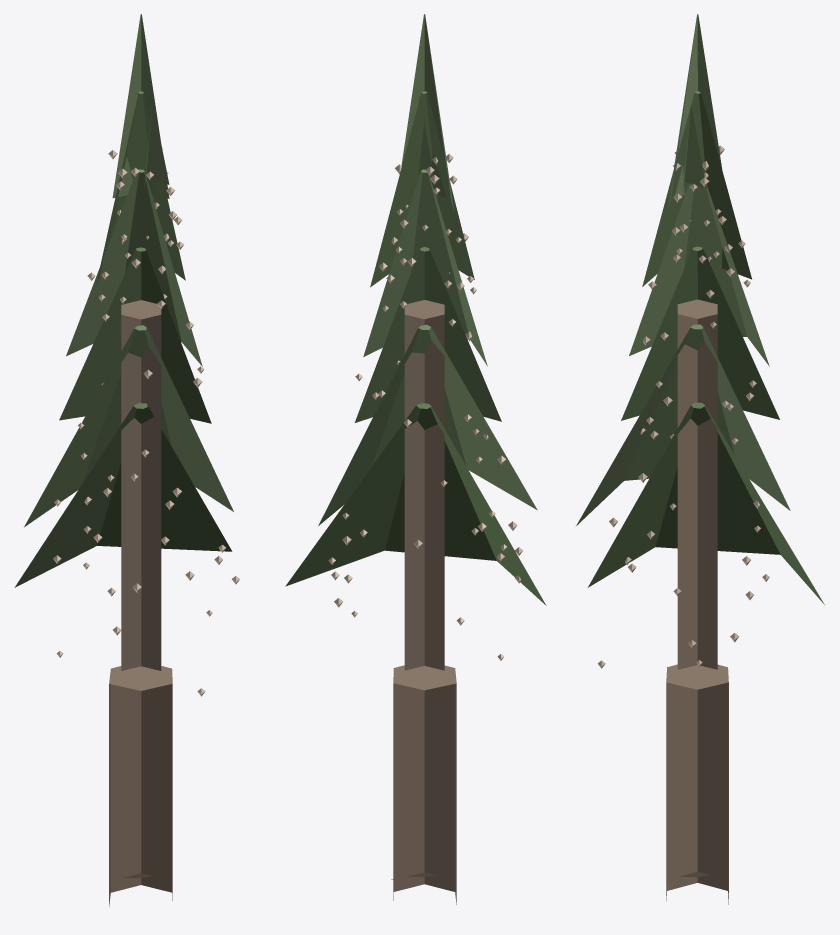
File: shu.luoye@flowering__summer.glb
The picture shows the model from 3 angles, left to right: view 1: azimuth 30°, elevation 25°; view 2: azimuth 150°, elevation 25°; view 3: azimuth 270°, elevation 25°; orthographic projection.
Visible parts, largest first — view 1: shu.luoye@flowering__summer; view 2: shu.luoye@flowering__summer; view 3: shu.luoye@flowering__summer.
Part boxes in pixels (x1,y1,x2,y2): shu.luoye@flowering__summer: (14,14,239,906); shu.luoye@flowering__summer: (285,14,546,904); shu.luoye@flowering__summer: (576,14,824,904).
Size of the model in its own units: 4.86 by 18.97 by 4.86.
